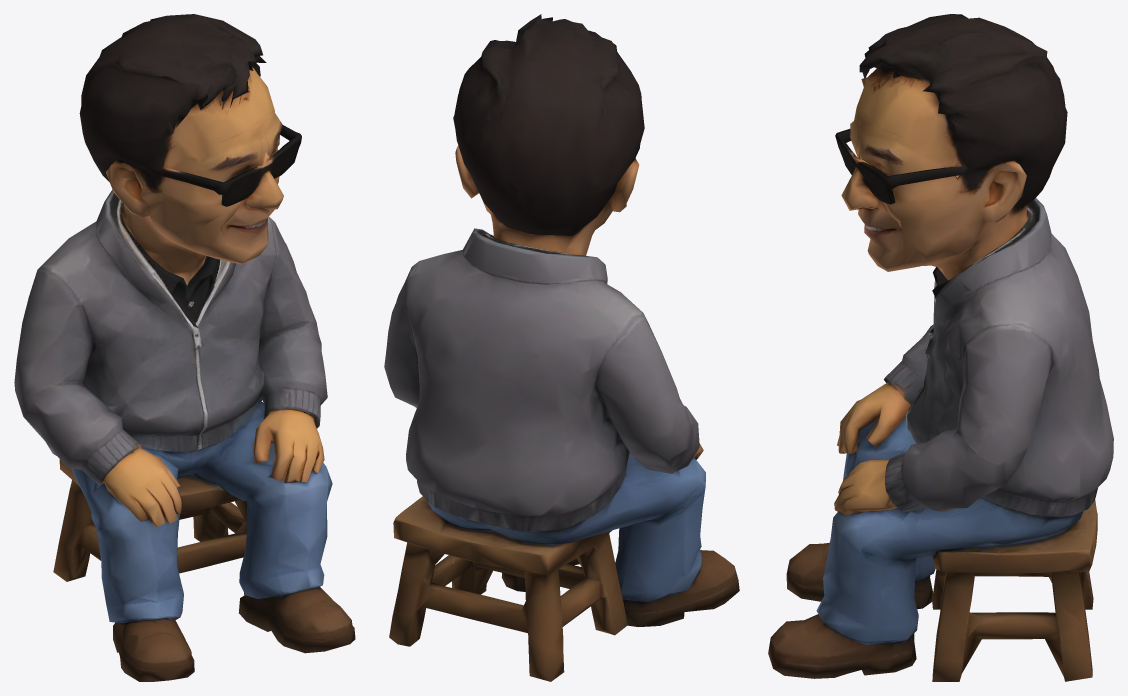
File: padlock_vendor_seated.glb
3 views of the same model, side by side, from view 1: azimuth 30°, elevation 25°; view 2: azimuth 150°, elevation 25°; view 3: azimuth 270°, elevation 25° (orthographic). The views are drawn at different scales.
Parts seen in each view (by area): view 1: padlock_vendor; view 2: padlock_vendor; view 3: padlock_vendor.
Boxes of the visible parts, <box> form: padlock_vendor: <box>14,14,355,681</box>; padlock_vendor: <box>384,14,739,681</box>; padlock_vendor: <box>768,14,1113,681</box>.
Bounding box in the file's own units: 0.8576 × 1.63 × 0.8342.
1 material, 1 textured.
